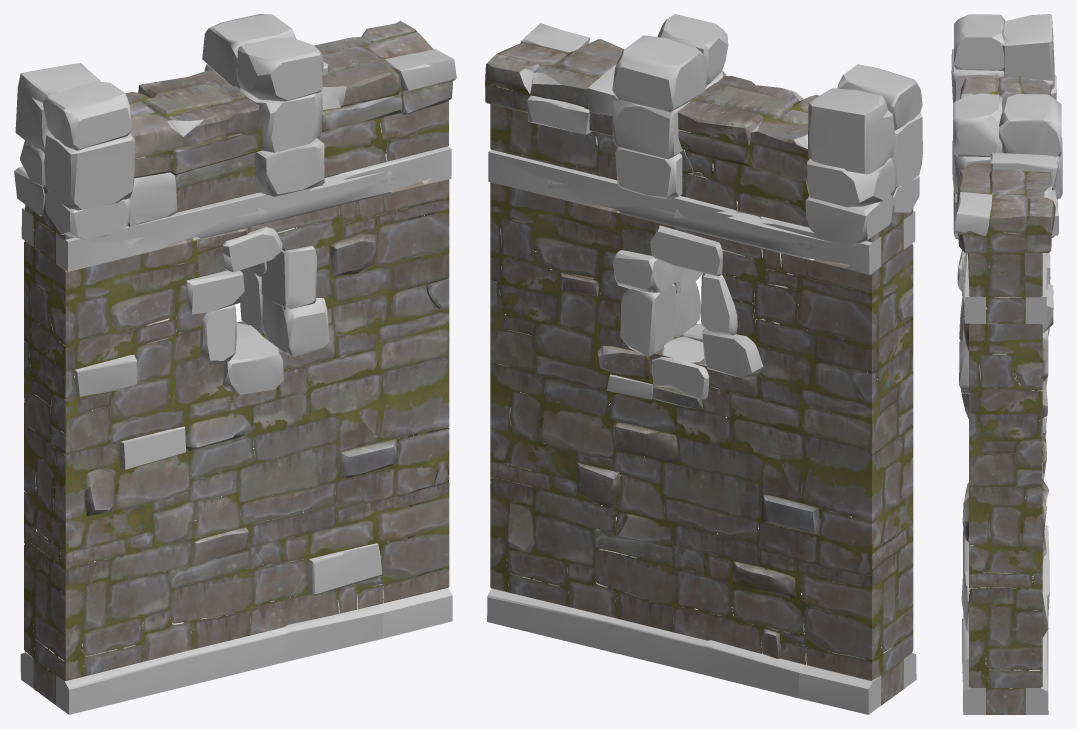
3 views of the same model, side by side, from view 1: azimuth 30°, elevation 25°; view 2: azimuth 150°, elevation 25°; view 3: azimuth 270°, elevation 25° (orthographic). The views are drawn at different scales.
Parts seen in each view (by area): view 1: SM_Castle_Wall_4x6_01_v3_LOD0; view 2: SM_Castle_Wall_4x6_01_v3_LOD0; view 3: SM_Castle_Wall_4x6_01_v3_LOD0.
Boxes of the visible parts, x1,y1,x2,y2 form: SM_Castle_Wall_4x6_01_v3_LOD0: (14,14,456,714); SM_Castle_Wall_4x6_01_v3_LOD0: (485,14,922,714); SM_Castle_Wall_4x6_01_v3_LOD0: (951,14,1062,714).
Bounding box in the file's own units: 4.04 × 6.05 × 1.13.
